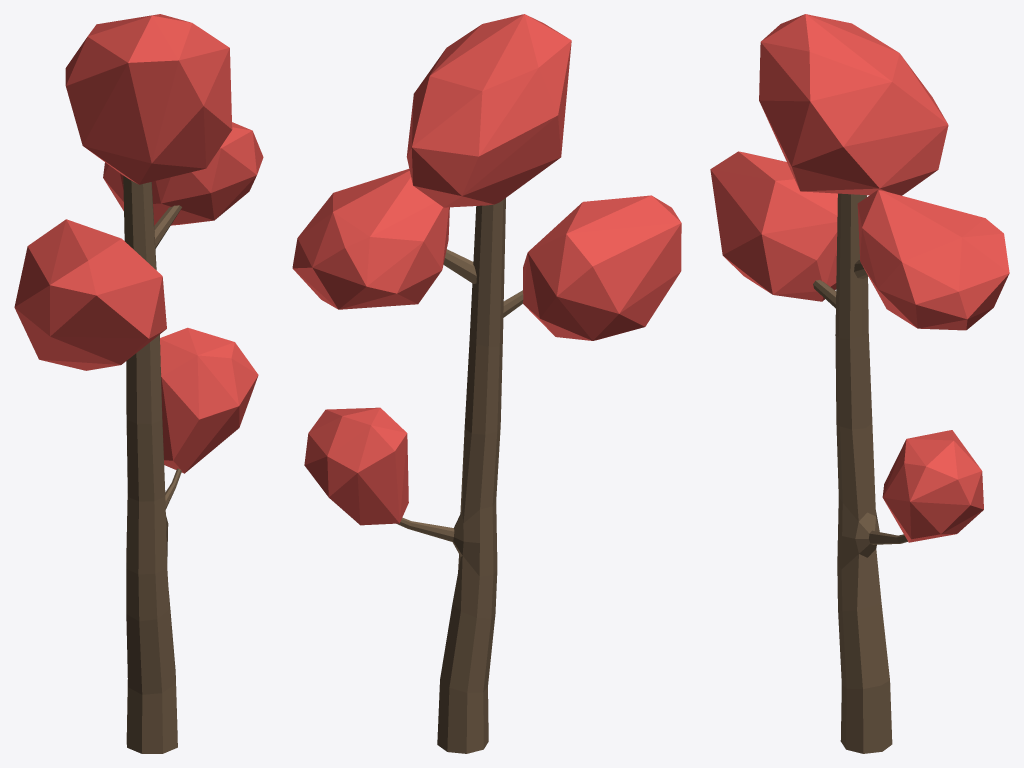
The model's file is OakTree1_SM.fbx.
3 renders of one model, left to right at view 1: azimuth 30°, elevation 25°; view 2: azimuth 150°, elevation 25°; view 3: azimuth 270°, elevation 25°, orthographic. The views are drawn at different scales.
Visible parts, largest first — view 1: OakTree1_SM; view 2: OakTree1_SM; view 3: OakTree1_SM.
Part boxes in pixels (bbox=[...]): OakTree1_SM: bbox=[14, 14, 263, 753]; OakTree1_SM: bbox=[292, 14, 681, 753]; OakTree1_SM: bbox=[710, 14, 1009, 753].
Size of the model in its own units: 184 by 439 by 167.
